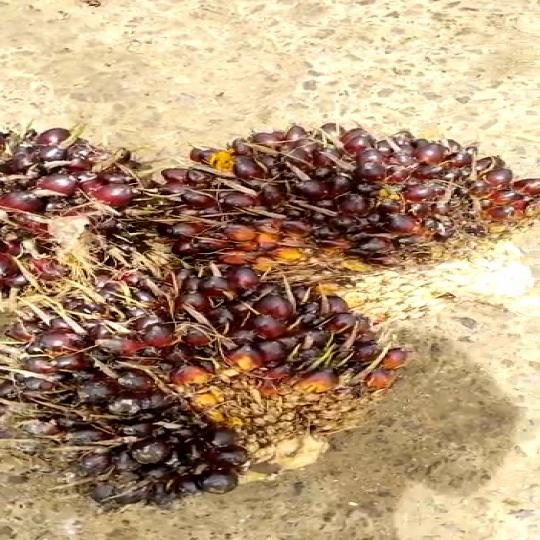kurang masak: (0, 241, 396, 515), (136, 117, 540, 277), (0, 120, 167, 316)
